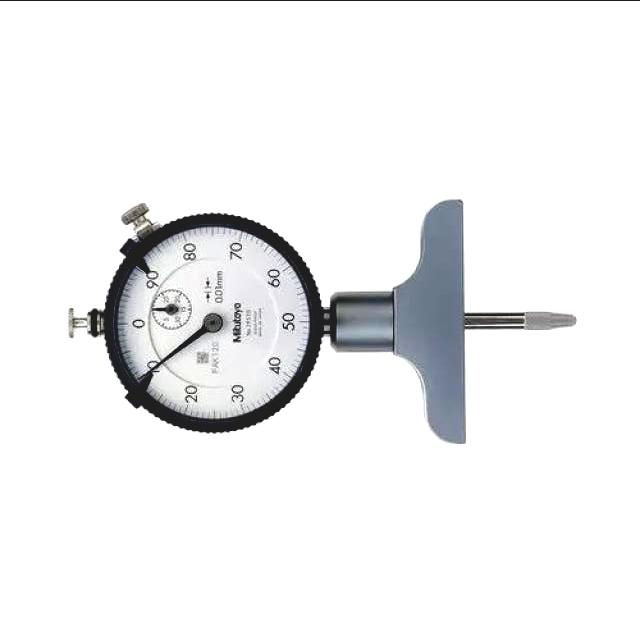Needle_Tip: (140, 358, 166, 382)
Needle_base: (198, 308, 230, 337)
max_value: (142, 263, 167, 296)
min_value: (128, 312, 154, 333)
